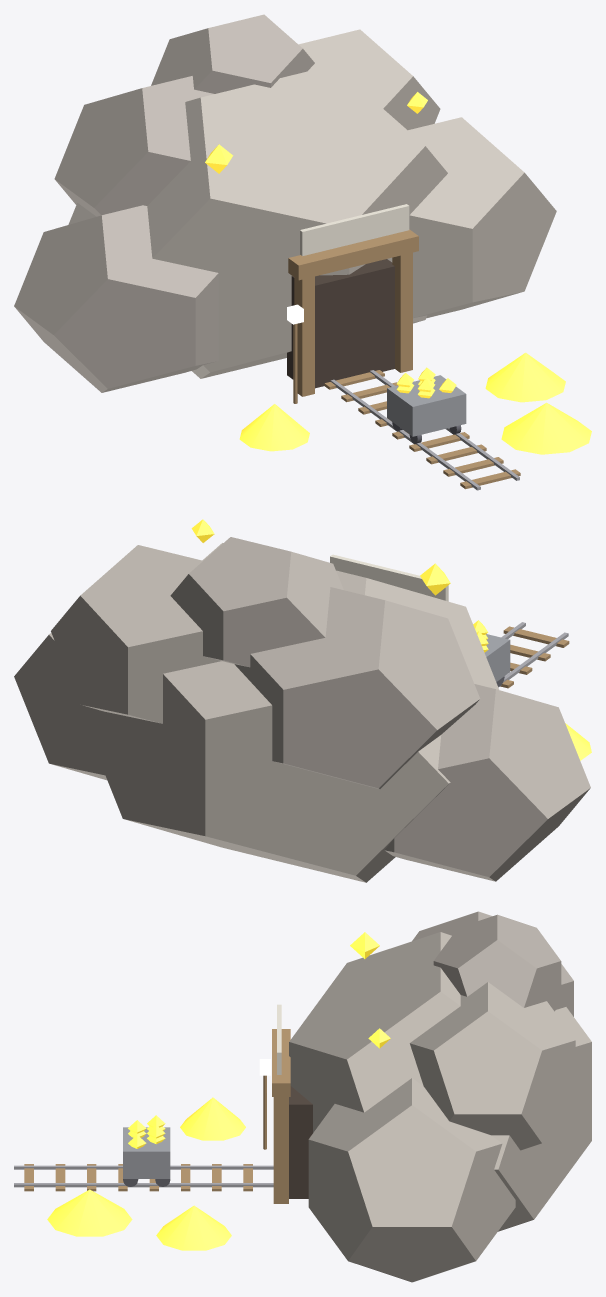
File: tambang.glb
3 views of the same model, one above another, from view 1: azimuth 30°, elevation 25°; view 2: azimuth 150°, elevation 25°; view 3: azimuth 270°, elevation 25° (orthographic). The views are drawn at different scales.
Visible parts, largest first — view 1: tambang; view 2: tambang; view 3: tambang.
Boxes of the visible parts, x1,y1,x2,y2 form: tambang: [14, 14, 591, 490]; tambang: [14, 519, 591, 882]; tambang: [14, 911, 591, 1282].
Bounding box in the file's own units: 5.57 × 3.42 × 6.1.
